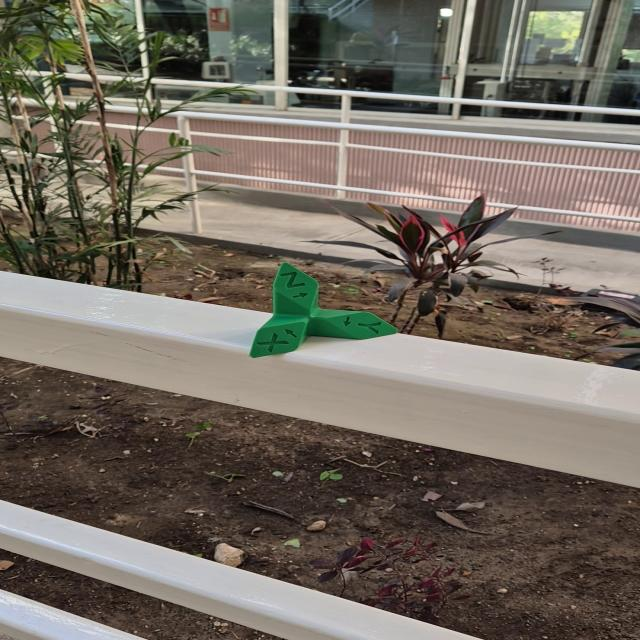objects: (246, 261, 399, 359)
